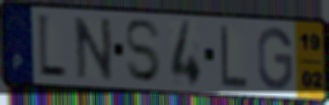4: (168, 18, 204, 90)
G: (256, 26, 294, 93)
L: (35, 11, 69, 82), (219, 23, 250, 90)
N: (72, 16, 115, 83)
S: (123, 18, 164, 85)
